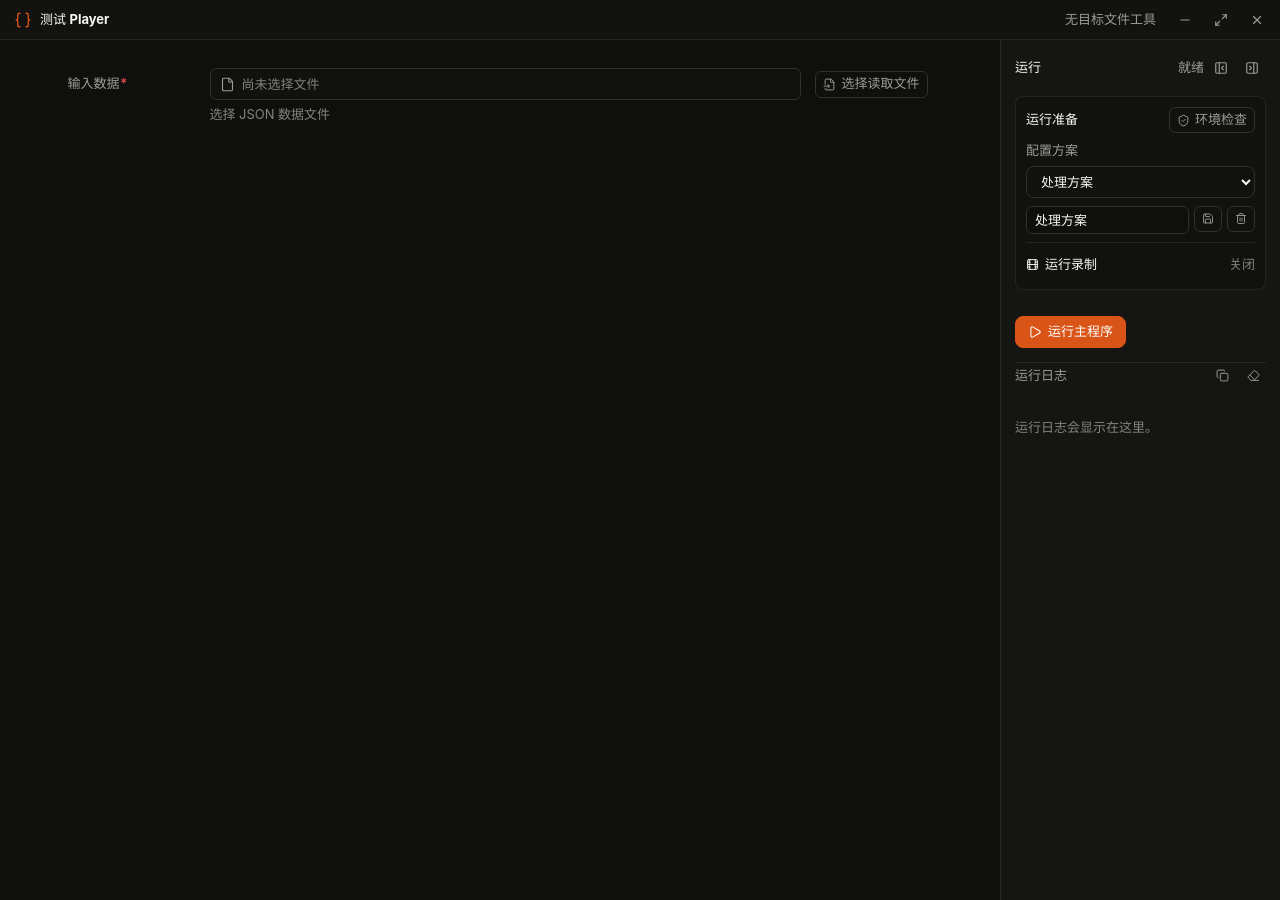
VNextPlayerApp error and session lifecycle › 无操作目标也可通过系统选择器填入强类型文件引用，确认前不改值
Select "处理方案" in the dropdown labelled "配置方案" at (1140, 182), box [1026,166,1255,198]
Check: the element with class "reference-summary" reads "尚未选择文件", box [242,76,320,92]
Click the button "选择读取文件" at (872, 84), box [816,70,928,98]
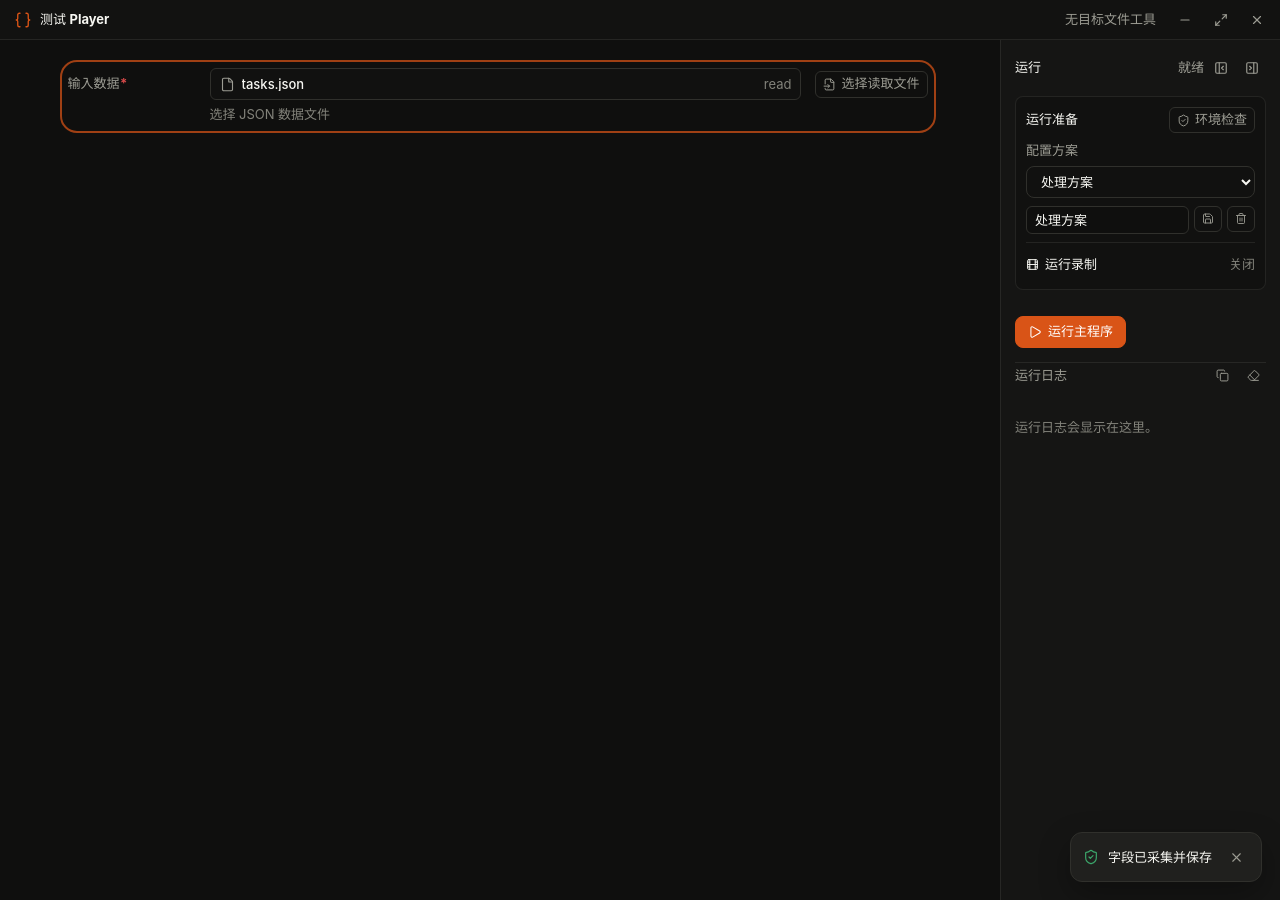
Check: the element with class "reference-summary" shows "tasks.json", box [242,76,304,92]
